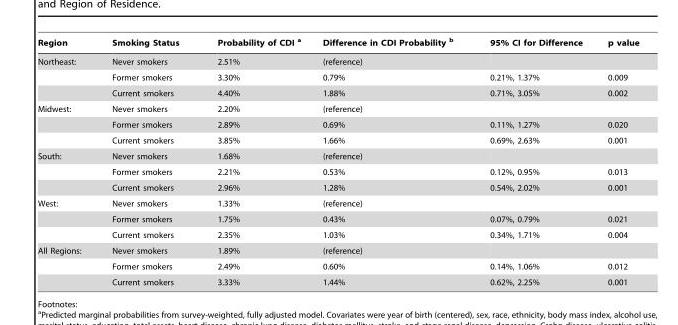table: (36, 36, 638, 286)
table column: (311, 36, 470, 286), (470, 36, 594, 286), (197, 36, 311, 286), (95, 36, 197, 286), (36, 36, 95, 286), (594, 36, 638, 286)
table column header: (36, 36, 638, 52)
table row: (36, 52, 638, 69), (36, 36, 638, 52), (36, 69, 638, 85), (36, 100, 638, 116), (36, 116, 638, 132), (36, 132, 638, 148), (36, 163, 638, 179), (36, 179, 638, 195), (36, 195, 638, 211), (36, 226, 638, 242), (36, 242, 638, 258), (36, 258, 638, 274), (36, 85, 638, 100), (36, 148, 638, 163), (36, 211, 638, 226), (36, 274, 638, 286)
table spanning cell: (36, 52, 95, 100), (36, 100, 95, 148), (36, 148, 95, 195), (36, 195, 95, 242), (36, 242, 95, 286)
